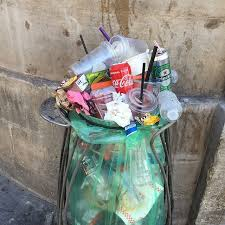Coca-Cola: (115, 68, 131, 90)
